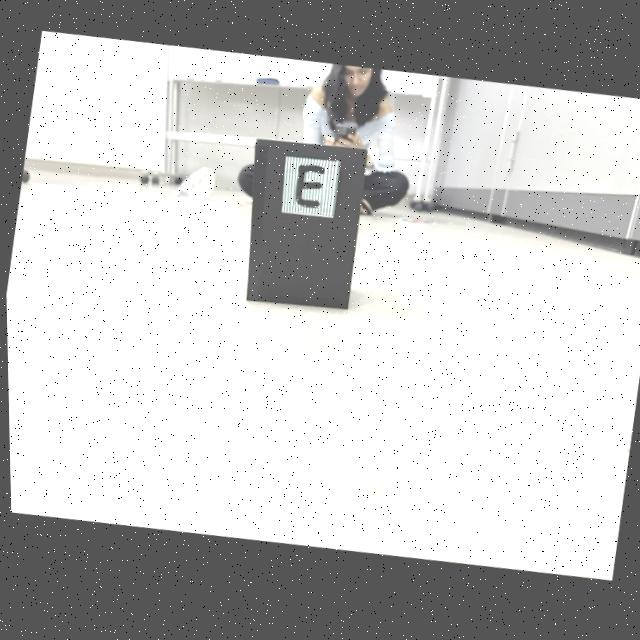E: (295, 169, 325, 211)
